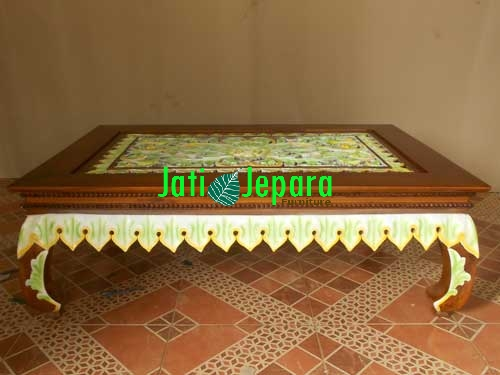Carving Table: (18, 119, 485, 321)
